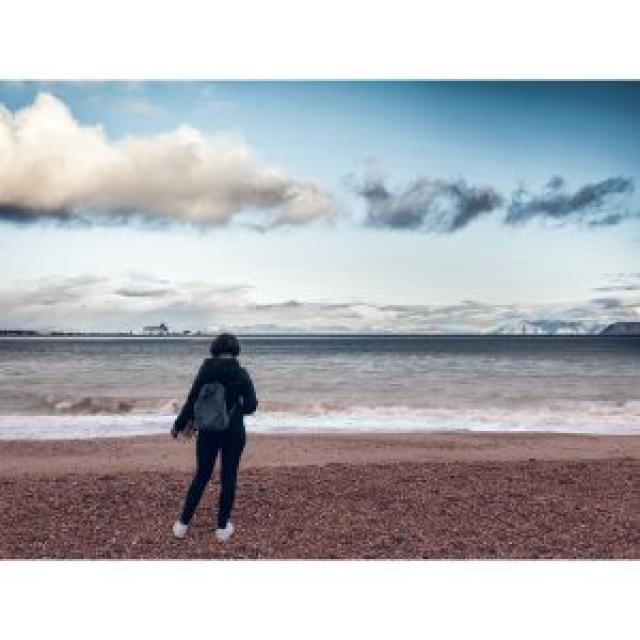nonfall: (158, 317, 261, 544)
